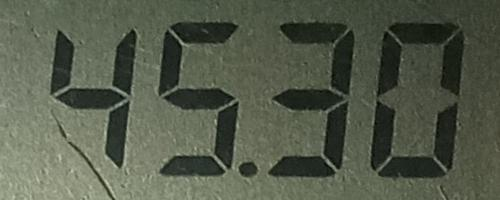.: (236, 157, 259, 180)
